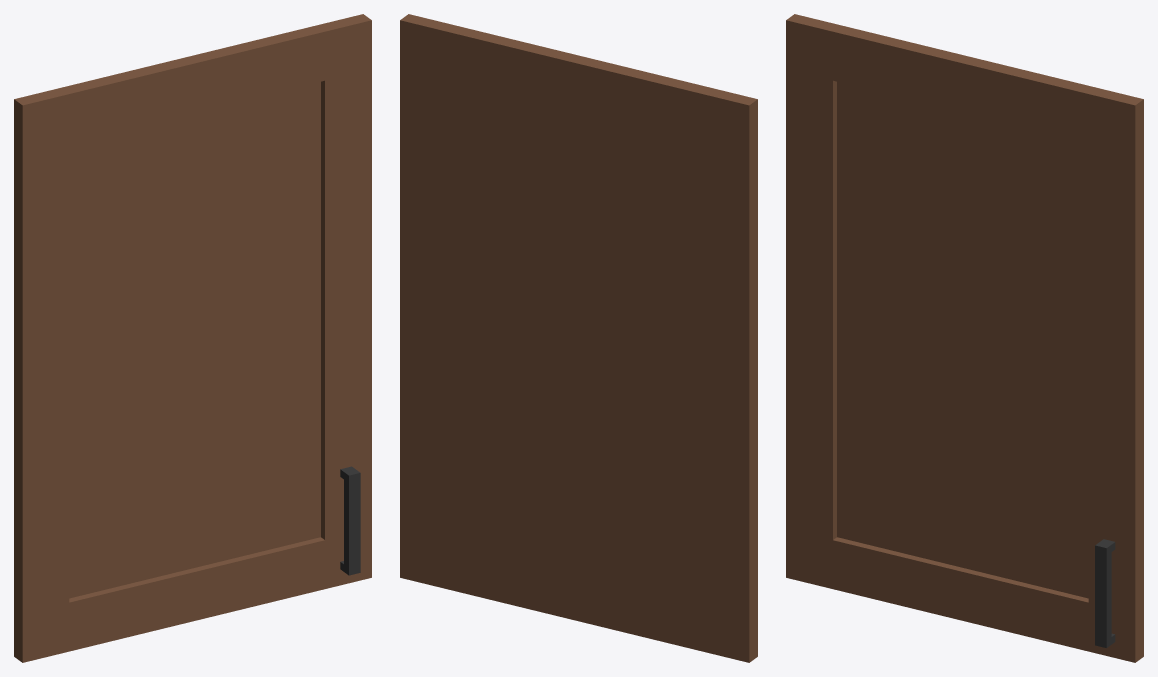
The model's file is Door2_C2_12.fbx.
3 views of the same model, side by side, from view 1: azimuth 30°, elevation 25°; view 2: azimuth 150°, elevation 25°; view 3: azimuth 330°, elevation 25° (orthographic).
Visible parts, largest first — view 1: Door2_C2_12; view 2: Door2_C2_12; view 3: Door2_C2_12.
Part boxes in pixels (x1=…): Door2_C2_12: x1=14, y1=14, x2=371, y2=662; Door2_C2_12: x1=400, y1=14, x2=757, y2=662; Door2_C2_12: x1=786, y1=14, x2=1143, y2=662.
Bounding box in the file's own units: 59 × 90 × 5.03.
